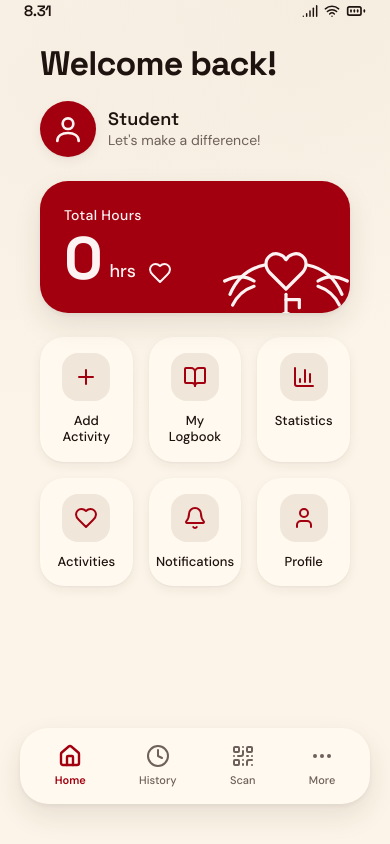
Test: App navigation wiring › navigates to distinct screens via the bottom nav with updated active state
(page scrolled)
Click the button "History" at x=158, y=766, box [127,740,189,792]
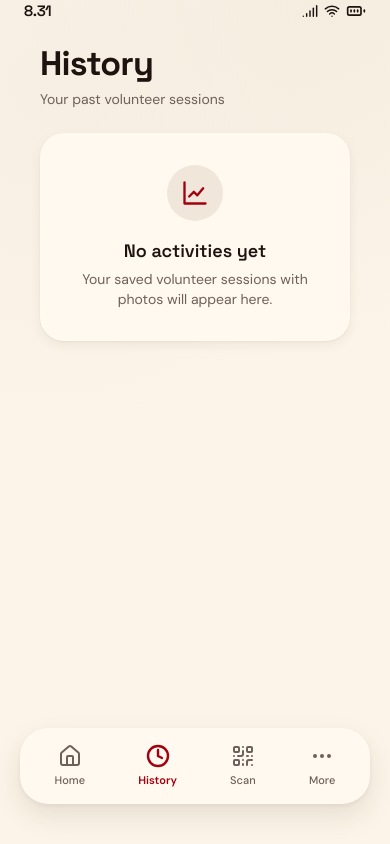
Expected: the heading "History" is shown, [40,42,153,84]
Click the button "Scan" at x=243, y=766, box [218,740,268,792]
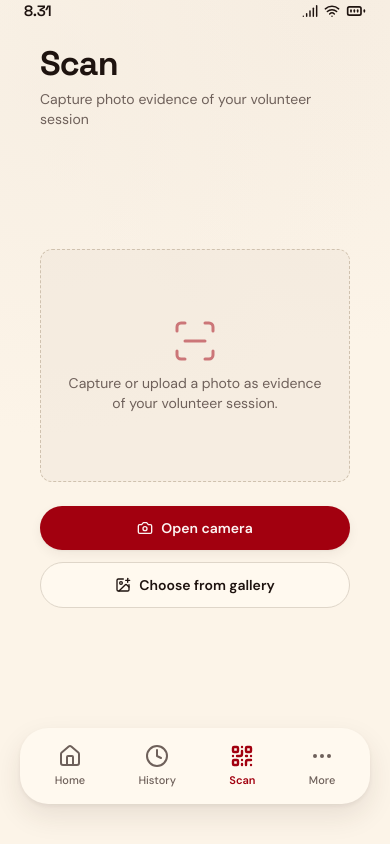
Expected: the heading "Scan" is shown, [40,42,118,84]
Click the button "More" at x=322, y=766, box [297,740,347,792]
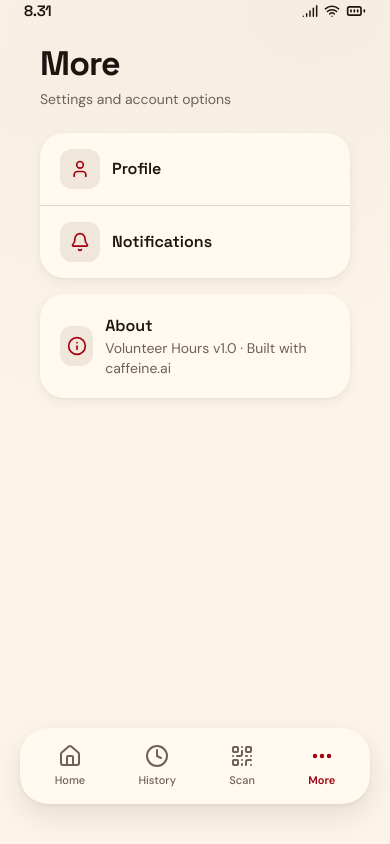
Expected: the heading "More" is shown, [40,42,120,84]
